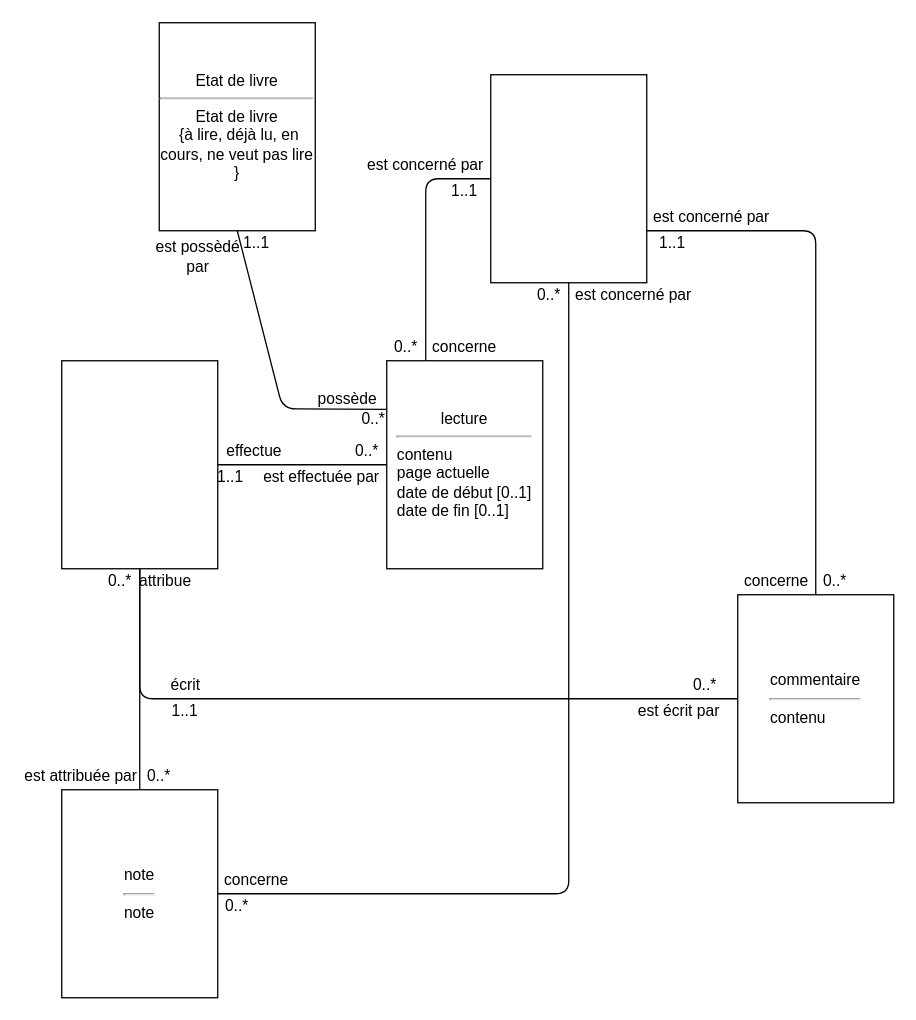
The diagram is 916 pixels wide and 1020 high, and some of its shapes have lost their labels. Here are the shapes that lost their labels. From the top down, the centre of each, then its label:
At [568,178]: "Livre Titre Auteur Éditeur Date de parution N°ISBN Note".
At [139,464]: "utilisateur Pseudo Adresse mail Mot de passe".
